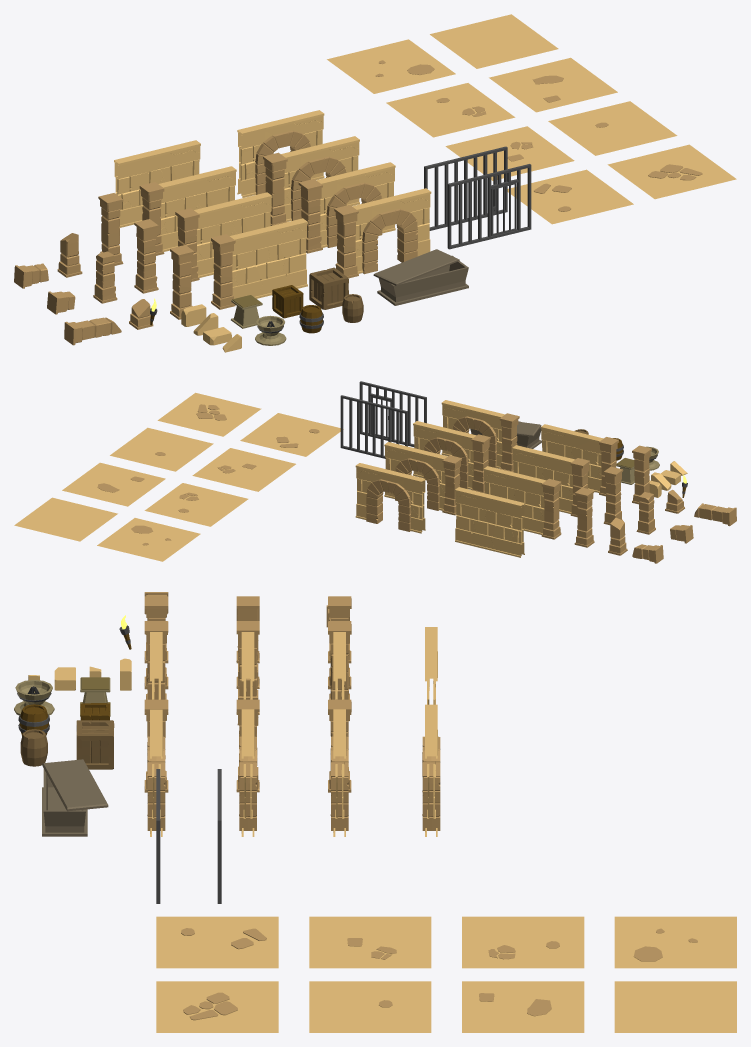
The model's file is low_poly_modular_dungeon_sand_biome.glb.
3 views of the same model, one above another, from view 1: azimuth 30°, elevation 25°; view 2: azimuth 150°, elevation 25°; view 3: azimuth 270°, elevation 25° (orthographic). The views are drawn at different scales.
Parts seen in each view (by area): view 1: Pillar1Wall1, Pillar1Door, Pillar2Door, Pillar3Door, Pillar2Wall1, Pillar3Wall1, Door1WithoutPillar, Floor1, Floor3, Floor4, Floor8, Floor2 (+21 smaller); view 2: WallwithoutPillar, Door1WithoutPillar, Pillar3Wall1, Pillar3Door, Pillar2Door, Pillar1Door, Pillar2Wall1, Pillar1Wall1, Floor1, Floor4, Floor3, Floor5 (+17 smaller); view 3: Floor7, Floor1, Floor2, Floor5, Floor3, Floor4, Floor6, Floor8, Sarcophagus, Pillar2Door, Pillar3Door, Pillar1Door (+12 smaller).
Part boxes in pixels (x1=…): Pillar1Wall1: x1=211, y1=218, x2=307, y2=309; Pillar1Door: x1=334, y1=188, x2=431, y2=278; Pillar2Door: x1=298, y1=162, x2=395, y2=253; Pillar3Door: x1=263, y1=136, x2=359, y2=225; Pillar2Wall1: x1=175, y1=192, x2=272, y2=281; Pillar3Wall1: x1=139, y1=166, x2=236, y2=255; Door1WithoutPillar: x1=237, y1=110, x2=324, y2=197; Floor1: x1=386, y1=83, x2=515, y2=137; Floor3: x1=489, y1=57, x2=617, y2=112; Floor4: x1=548, y1=101, x2=677, y2=155; Floor8: x1=430, y1=14, x2=558, y2=68; Floor2: x1=327, y1=39, x2=455, y2=93; WallwithoutPillar: x1=455, y1=487, x2=524, y2=557; Door1WithoutPillar: x1=355, y1=463, x2=425, y2=533; Pillar3Wall1: x1=483, y1=466, x2=561, y2=539; Pillar3Door: x1=384, y1=442, x2=461, y2=515; Pillar2Door: x1=413, y1=421, x2=490, y2=493; Pillar1Door: x1=441, y1=400, x2=519, y2=472; Pillar2Wall1: x1=512, y1=445, x2=589, y2=517; Pillar1Wall1: x1=541, y1=424, x2=618, y2=496; Floor1: x1=144, y1=483, x2=248, y2=526; Floor4: x1=110, y1=427, x2=213, y2=471; Floor3: x1=62, y1=462, x2=165, y2=506; Floor5: x1=192, y1=448, x2=295, y2=491; Floor7: x1=156, y1=916, x2=278, y2=968; Floor1: x1=462, y1=916, x2=584, y2=968; Floor2: x1=614, y1=916, x2=736, y2=968; Floor5: x1=309, y1=916, x2=431, y2=968; Floor3: x1=462, y1=981, x2=584, y2=1032; Floor4: x1=309, y1=981, x2=431, y2=1032; Floor6: x1=156, y1=981, x2=278, y2=1032; Floor8: x1=614, y1=981, x2=736, y2=1032; Sarcophagus: x1=42, y1=759, x2=108, y2=836; Pillar2Door: x1=236, y1=699, x2=259, y2=836; Pillar3Door: x1=328, y1=699, x2=351, y2=836; Pillar1Door: x1=144, y1=699, x2=168, y2=836.
Bounding box in the file's own units: 32.52 × 3.15 × 23.66.
